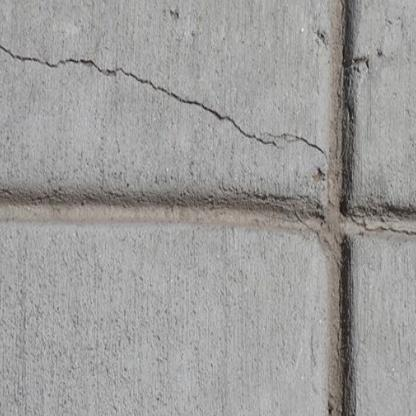Cracks: (0, 38, 330, 159), (348, 214, 416, 241)
